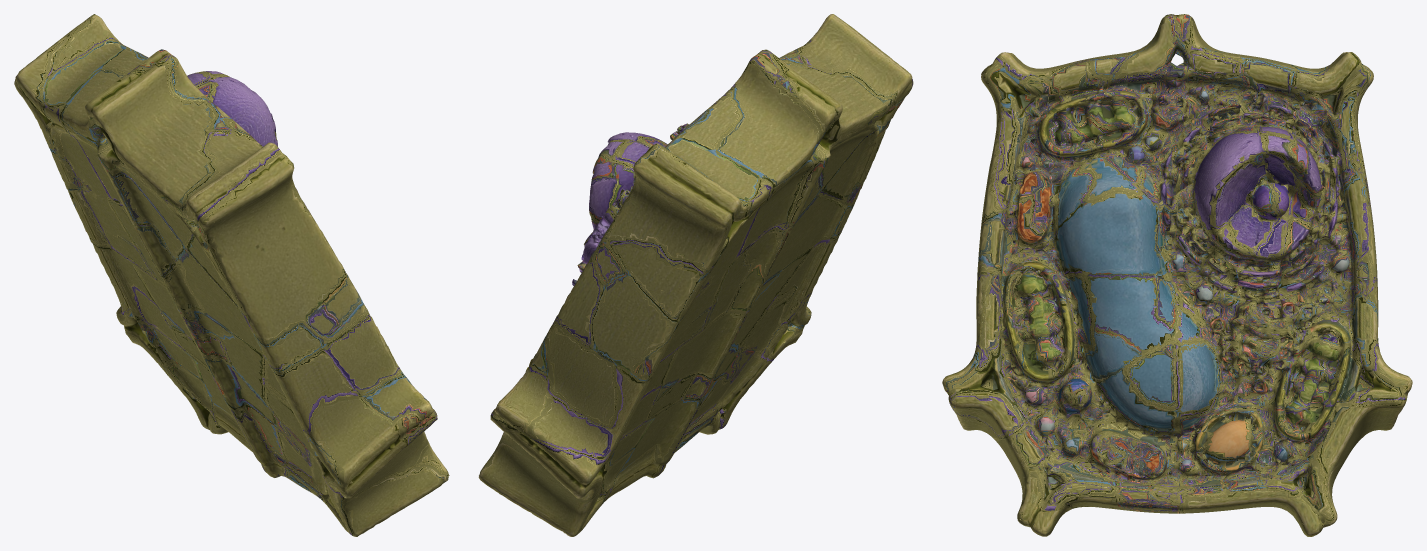
File: plant-cell-first001.glb
The picture shows the model from 3 angles, left to right: view 1: azimuth 30°, elevation 25°; view 2: azimuth 150°, elevation 25°; view 3: azimuth 270°, elevation 25°; orthographic projection.
Bounding box in the file's own units: 0.6362 × 0.9779 × 0.9212.
1 material, 1 textured.
